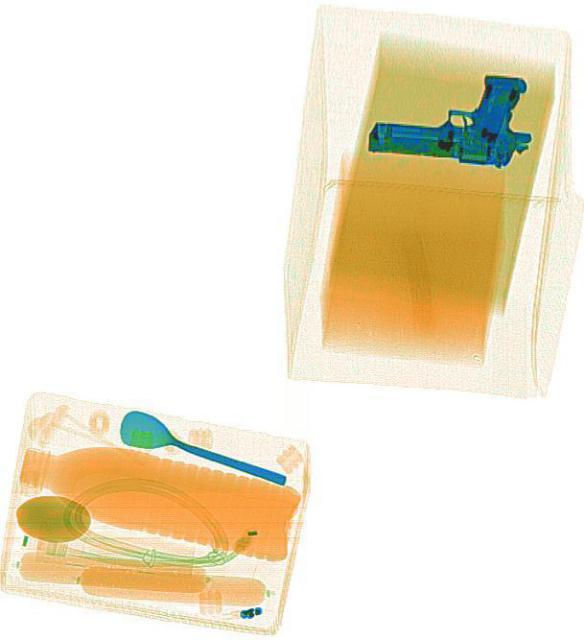Gun: (365, 64, 532, 168)
